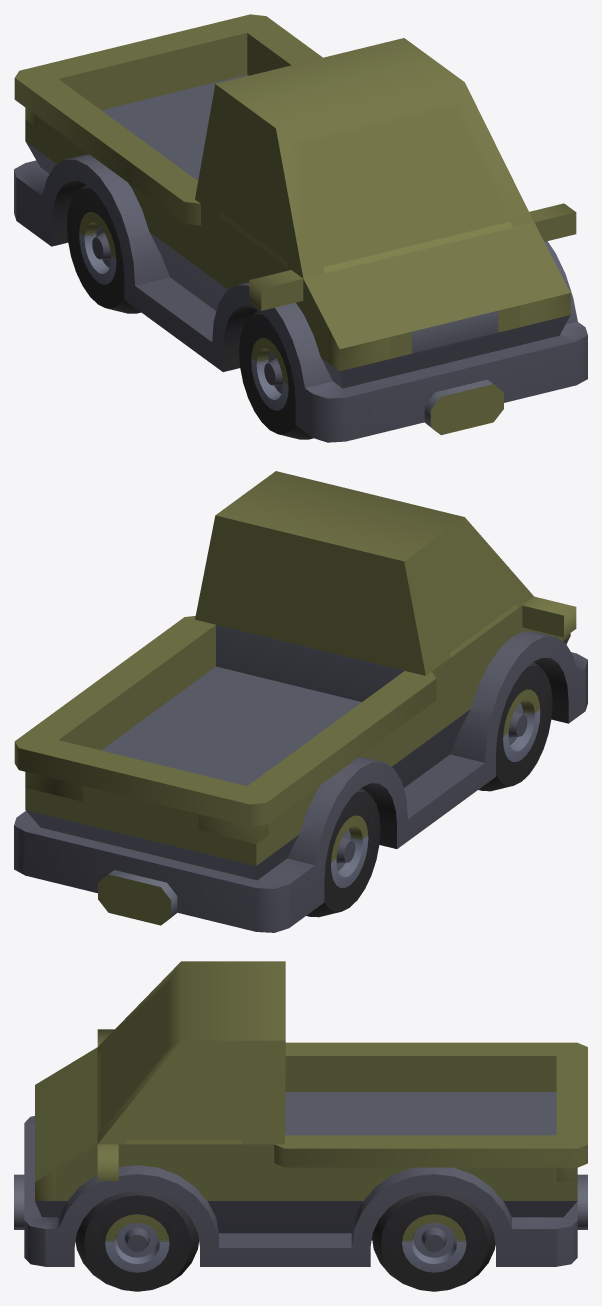
File: truck_mil.glb
3 views of the same model, one above another, from view 1: azimuth 30°, elevation 25°; view 2: azimuth 150°, elevation 25°; view 3: azimuth 270°, elevation 25° (orthographic). The views are drawn at different scales.
Parts seen in each view (by area): view 1: body, wheel-back-right, wheel-front-right; view 2: body, wheel-front-right, wheel-back-right; view 3: body, wheel-front-left, wheel-back-left.
Boxes of the visible parts, x1,y1,x2,y2 form: body: [14, 14, 587, 442]; wheel-back-right: [67, 184, 140, 313]; wheel-front-right: [239, 310, 313, 439]; body: [14, 471, 587, 932]; wheel-front-right: [478, 662, 552, 791]; wheel-back-right: [306, 787, 380, 917]; body: [14, 961, 587, 1266]; wheel-front-left: [75, 1191, 198, 1291]; wheel-back-left: [372, 1191, 495, 1291].
Bounding box in the file's own units: 1.5 × 1.3 × 2.75.
Materials: 1 (1 with a texture image).
